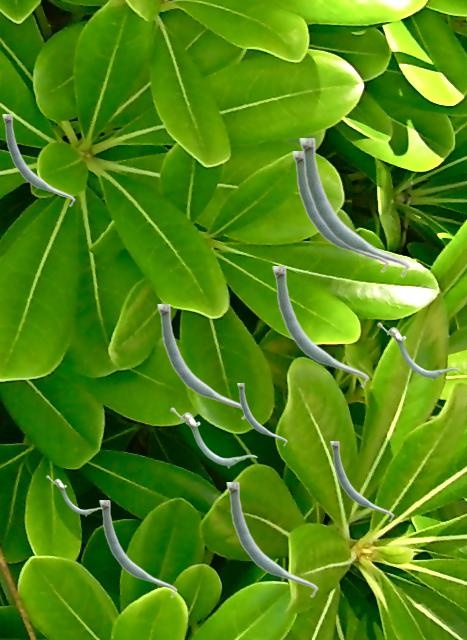french_bean: (299, 138, 409, 277), (272, 266, 368, 387), (292, 151, 388, 272), (226, 482, 317, 597), (157, 304, 244, 419), (99, 500, 176, 597), (2, 114, 74, 206), (170, 407, 256, 467), (330, 441, 393, 521), (377, 322, 459, 379), (237, 383, 286, 445), (46, 475, 100, 515)
